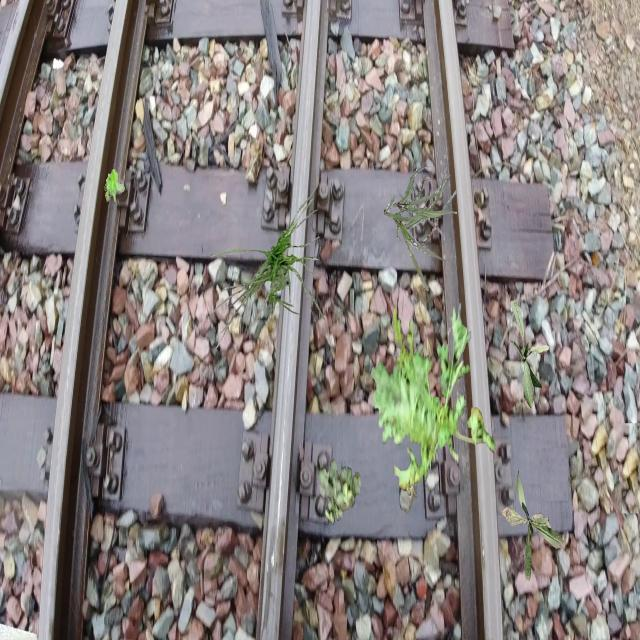Plant: (371, 303, 496, 499), (208, 187, 326, 350), (384, 166, 457, 290), (501, 470, 565, 582), (510, 299, 550, 409), (318, 459, 362, 526), (104, 169, 125, 202)
